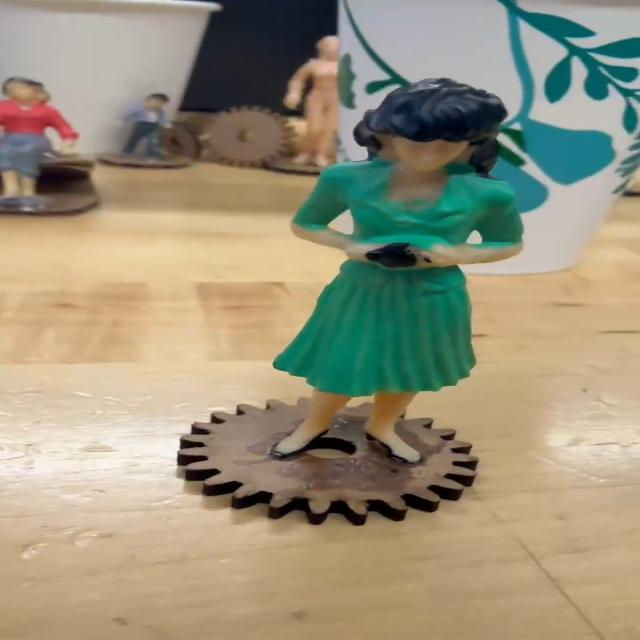Authorized: (249, 79, 531, 481)
